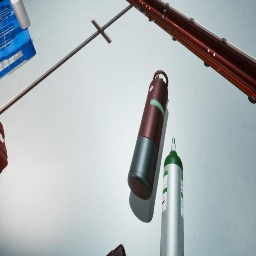0: (160, 136, 184, 256), (9, 0, 30, 30), (0, 14, 2, 21)
FirstAidBox ,: (0, 121, 8, 174), (106, 244, 126, 256)
NitrogenTank ,: (128, 70, 168, 200)
